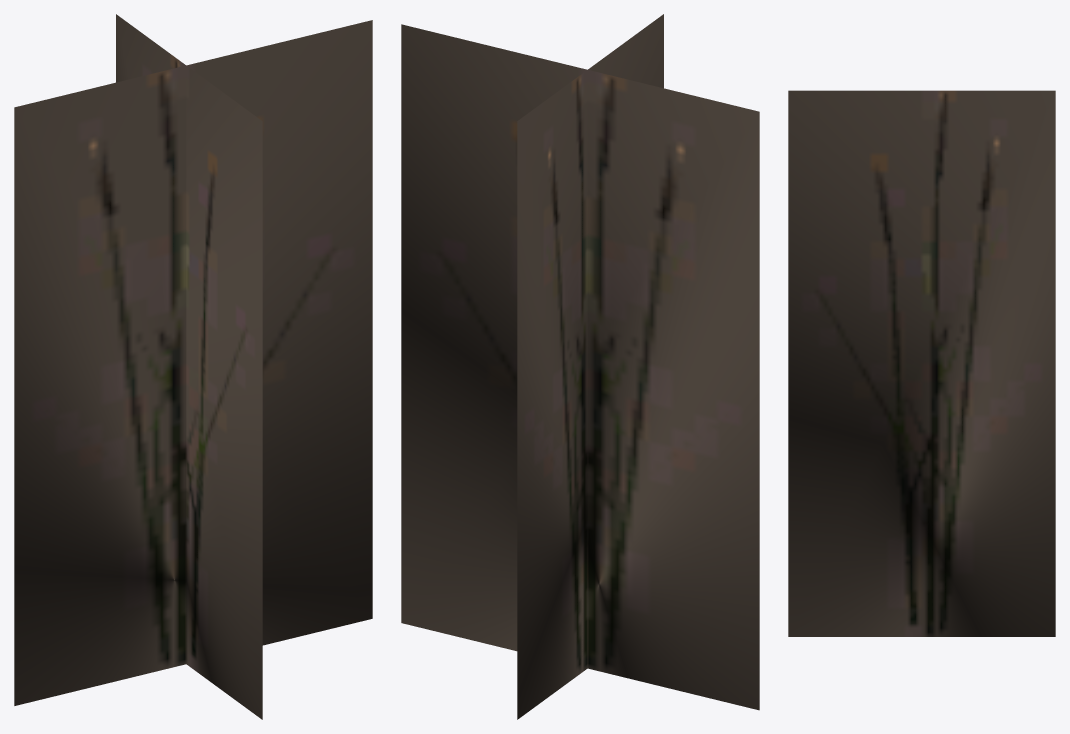
File: swmp_shor_cattail_cluster_blue_l2.fbx
3 views of the same model, side by side, from view 1: azimuth 30°, elevation 25°; view 2: azimuth 150°, elevation 25°; view 3: azimuth 270°, elevation 25° (orthographic). The views are drawn at different scales.
Visible parts, largest first — view 1: mesh_node; view 2: mesh_node; view 3: mesh_node.
Boxes of the visible parts, bbox=[...] form: mesh_node: bbox=[14, 14, 372, 719]; mesh_node: bbox=[401, 14, 759, 719]; mesh_node: bbox=[788, 90, 1055, 636].
Bounding box in the file's own units: 2.35 × 3.76 × 1.67.
1 material, 1 textured.
